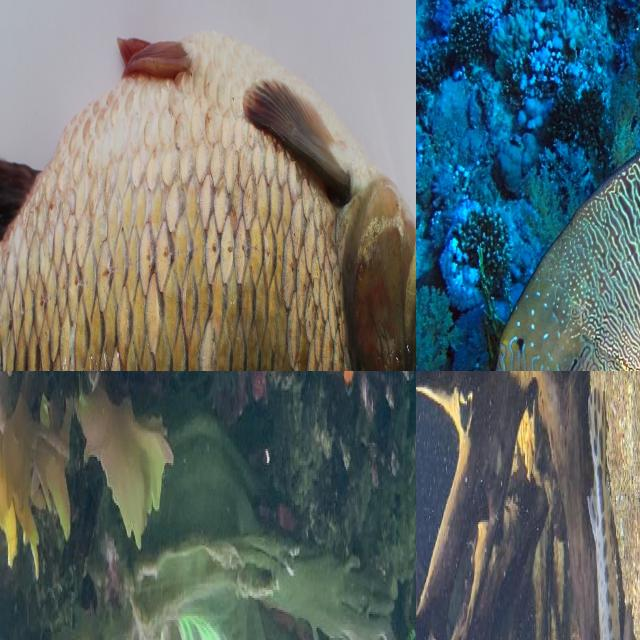fish: (0, 0, 416, 371), (508, 0, 640, 371), (583, 371, 640, 640), (293, 371, 360, 398)
